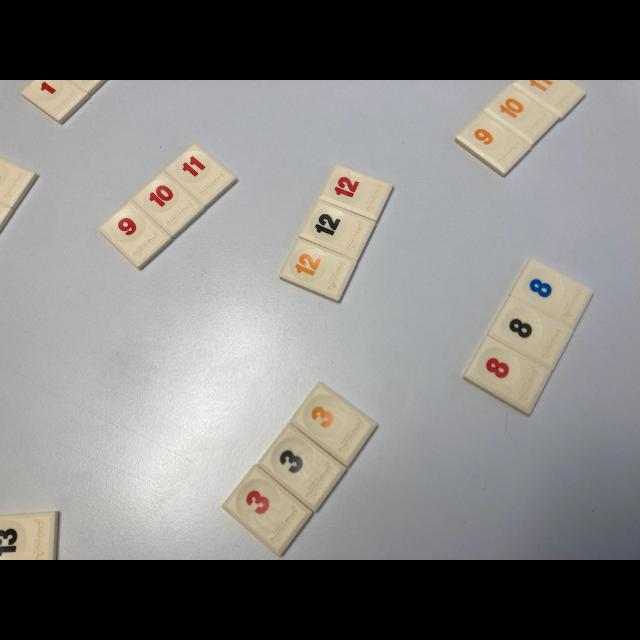black_12: (299, 200, 375, 260)
black_13: (1, 512, 58, 560)
black_3: (259, 424, 345, 511)
black_8: (489, 296, 572, 370)
blue_8: (510, 259, 592, 329)
orange_10: (484, 85, 558, 144)
orange_11: (514, 80, 585, 119)
orange_12: (279, 238, 356, 301)
orange_3: (290, 382, 376, 465)
orange_9: (455, 111, 531, 175)
red_1: (21, 80, 89, 124)
red_10: (132, 171, 205, 236)
red_11: (165, 142, 236, 206)
red_12: (319, 164, 392, 221)
red_3: (222, 465, 311, 555)
red_8: (464, 336, 551, 415)
red_9: (99, 200, 172, 268)
